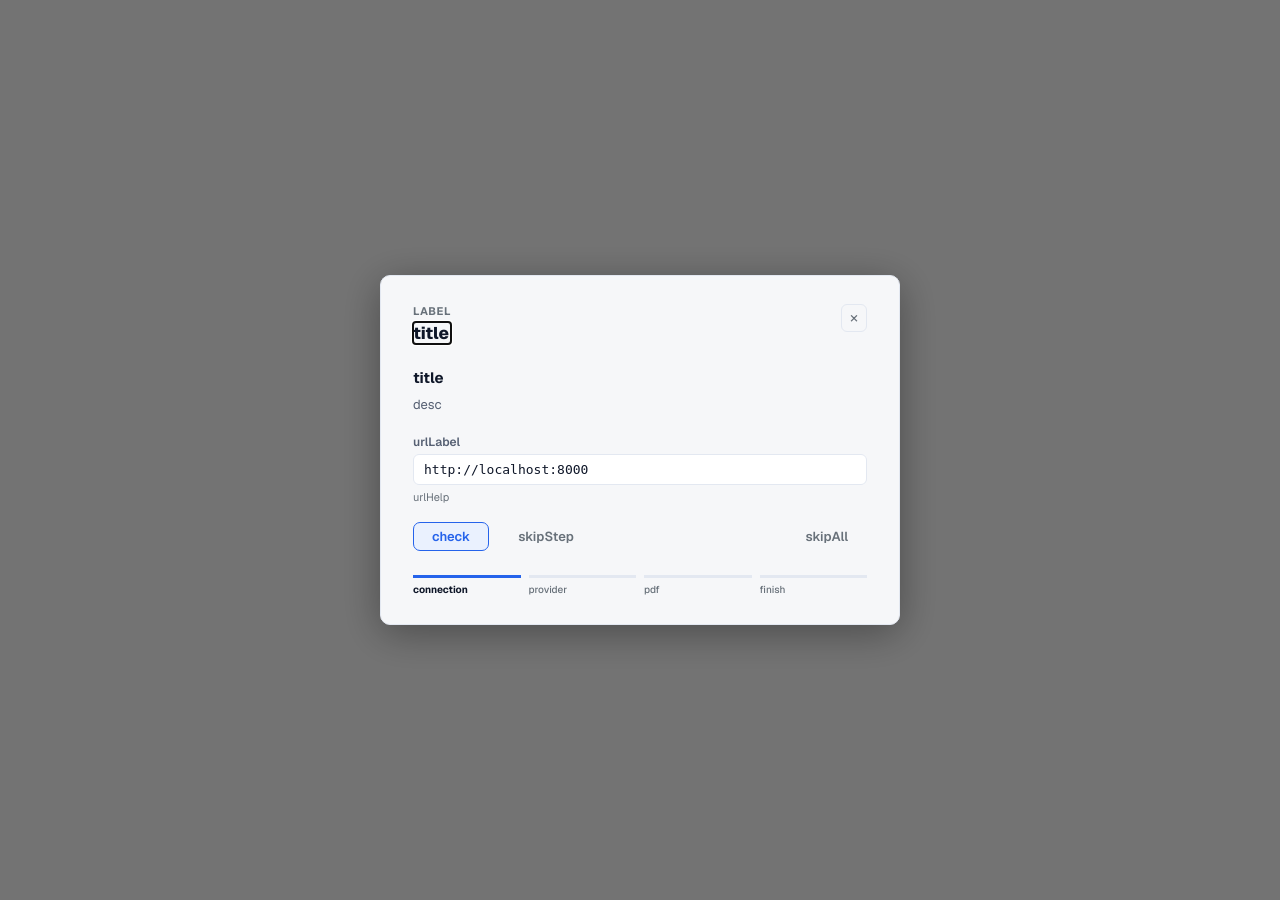
Test: FirstRunWizard — step navigation › clicking 'Skip this step' advances from step 1 to step 2
Note: Use the "skip step" button (not skip all)
Click the button with test id "wizard-step1-skip-check" at [546, 536], box [499,522,593,551]
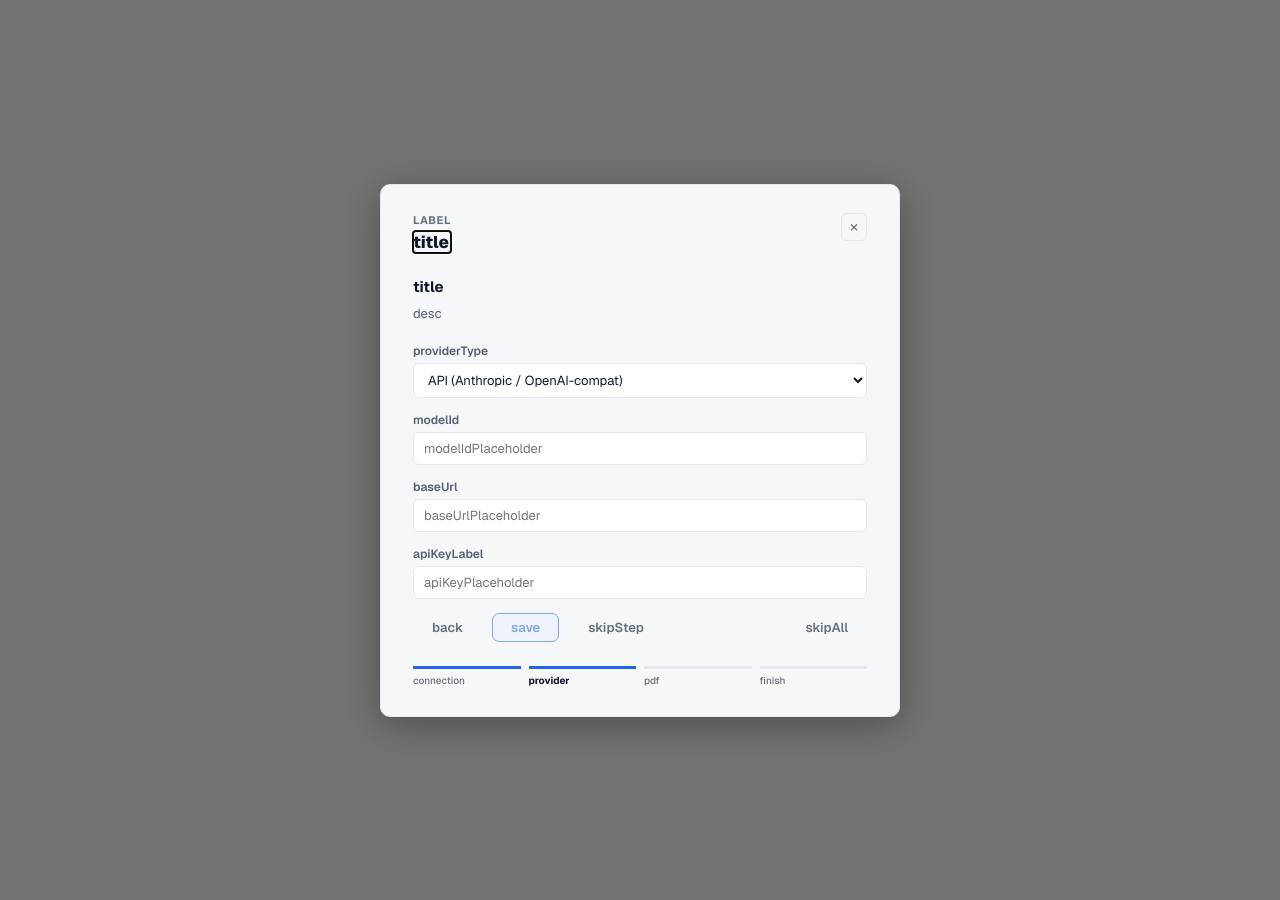
expect the dropdown with test id "wizard-step2-type" is shown: met, box [413,363,867,398]
